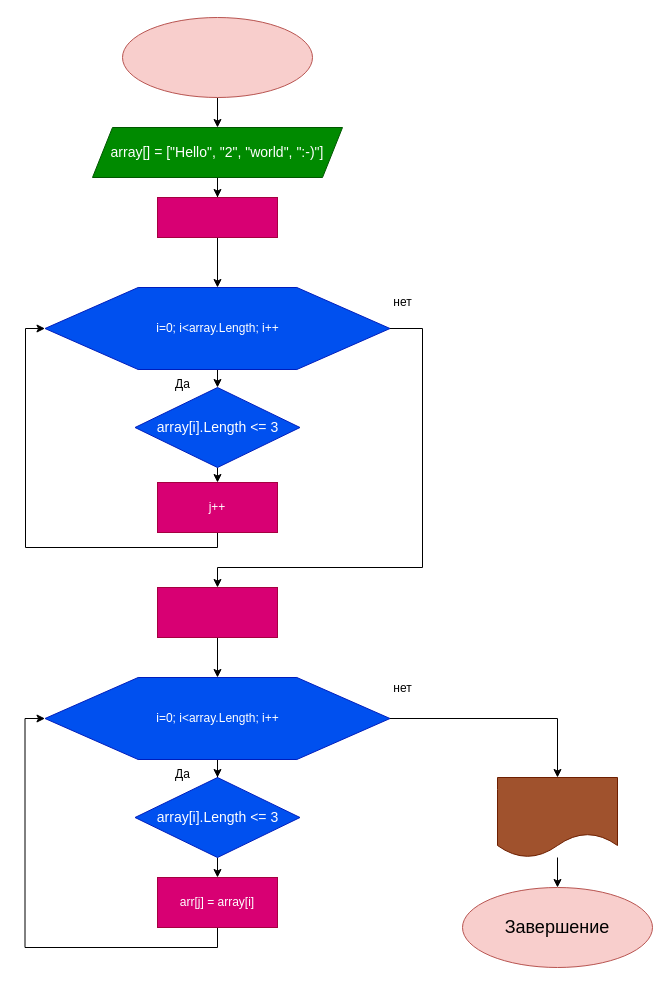
The diagram is 670 pixels wide and 985 high, and some of its shapes have lost their labels. The shapes that lost their labels are listed below. From the top down, each one's centre as x and y in pixels, then its label:
At point 217,57: "Старт".
At point 217,217: "j=0".
At point 217,612: "arr = new arr[j] j=0".
At point 557,817: "Вывод arr".
